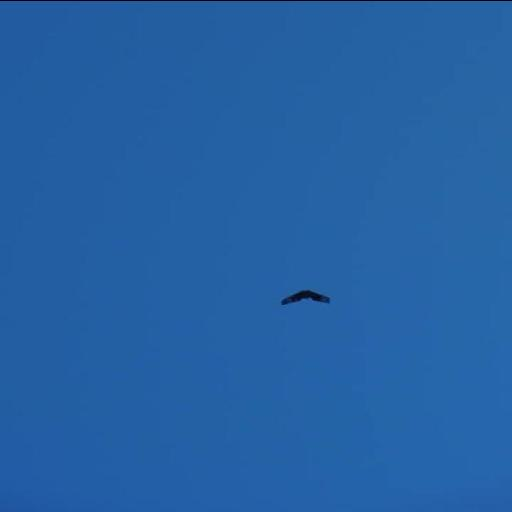uav: (276, 286, 336, 306)
